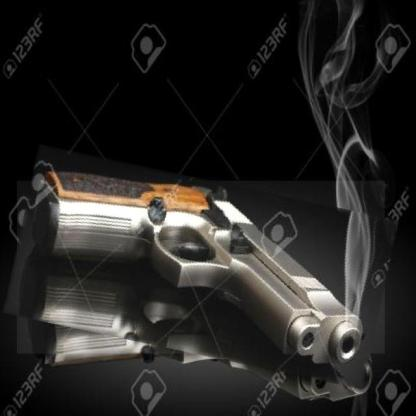handgun: (10, 162, 392, 372)
